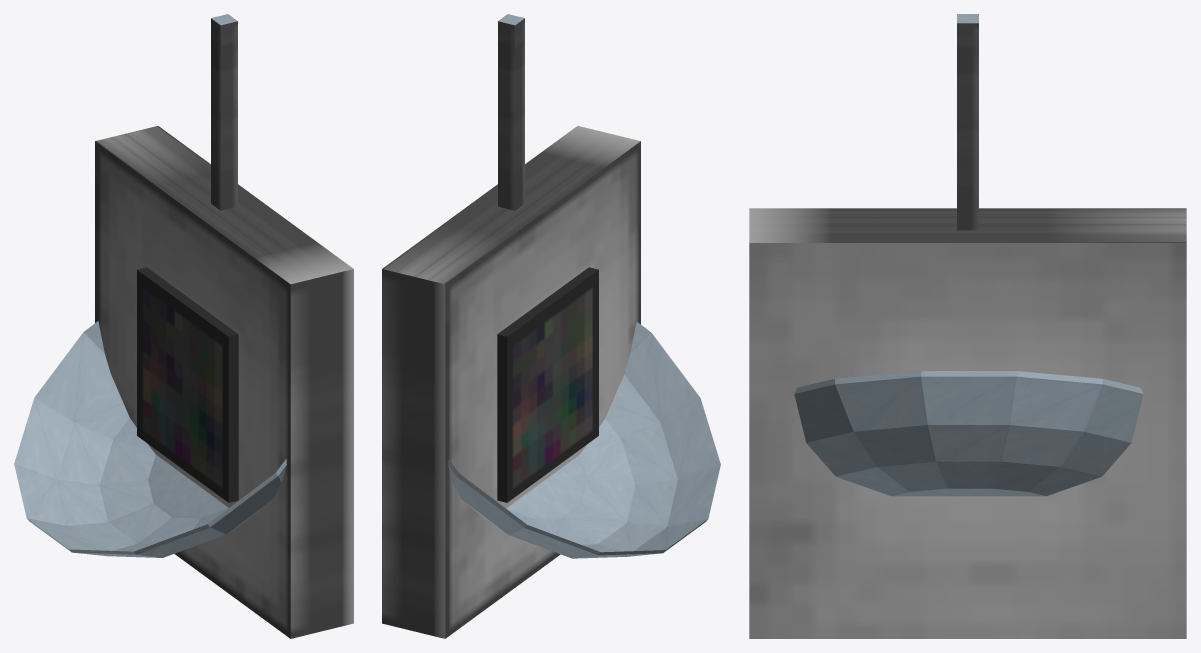
Rendered from frequency_module.obj.
3 renders of one model, left to right at view 1: azimuth 30°, elevation 25°; view 2: azimuth 150°, elevation 25°; view 3: azimuth 270°, elevation 25°, orthographic. The views are drawn at different scales.
Parts seen in each view (by area): view 1: Main, Radar; view 2: Main, Radar; view 3: Main, Radar.
Part boxes in pixels (x1,y1,x2,y2): Main: (95, 14, 353, 638); Radar: (14, 321, 286, 557); Main: (382, 14, 640, 638); Radar: (448, 322, 720, 558); Main: (749, 14, 1186, 638); Radar: (794, 371, 1143, 496).
Bounding box in the file's own units: 0.8296 × 1.6 × 1.05.
